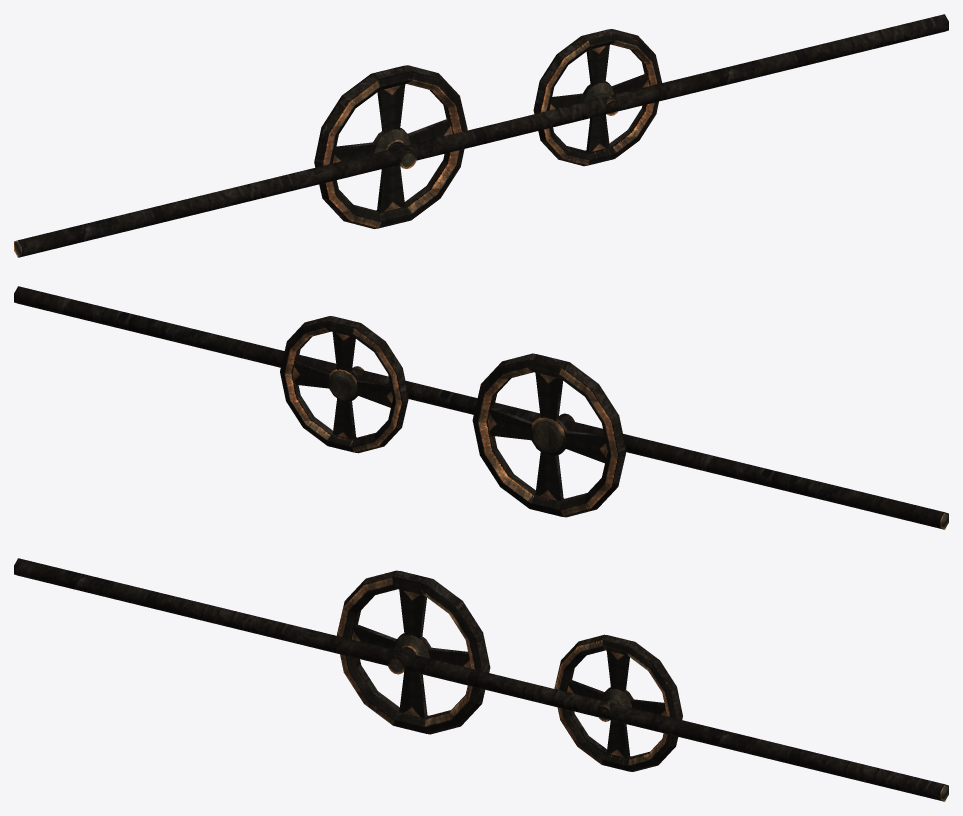
File: wheels.fbx
3 views of the same model, one above another, from view 1: azimuth 30°, elevation 25°; view 2: azimuth 150°, elevation 25°; view 3: azimuth 330°, elevation 25° (orthographic).
Visible parts, largest first — view 1: polySurface5; view 2: polySurface5; view 3: polySurface5.
Boxes of the visible parts, x1,y1,x2,y2 form: polySurface5: (14,14,948,257); polySurface5: (14,286,948,529); polySurface5: (14,558,948,801).
Size of the model in its own units: 110 by 17.67 by 4.53.
